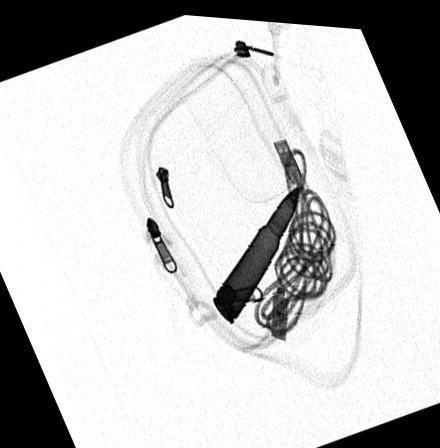Bullet: (211, 179, 301, 321)
